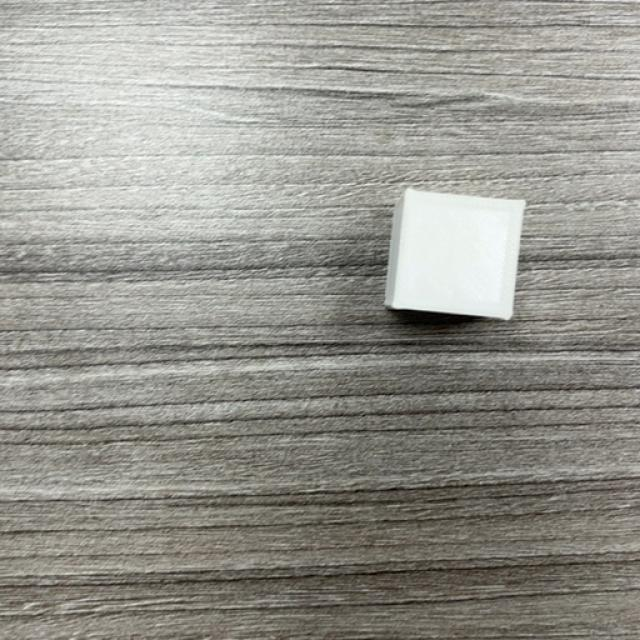Blanco: (384, 189, 526, 322)
